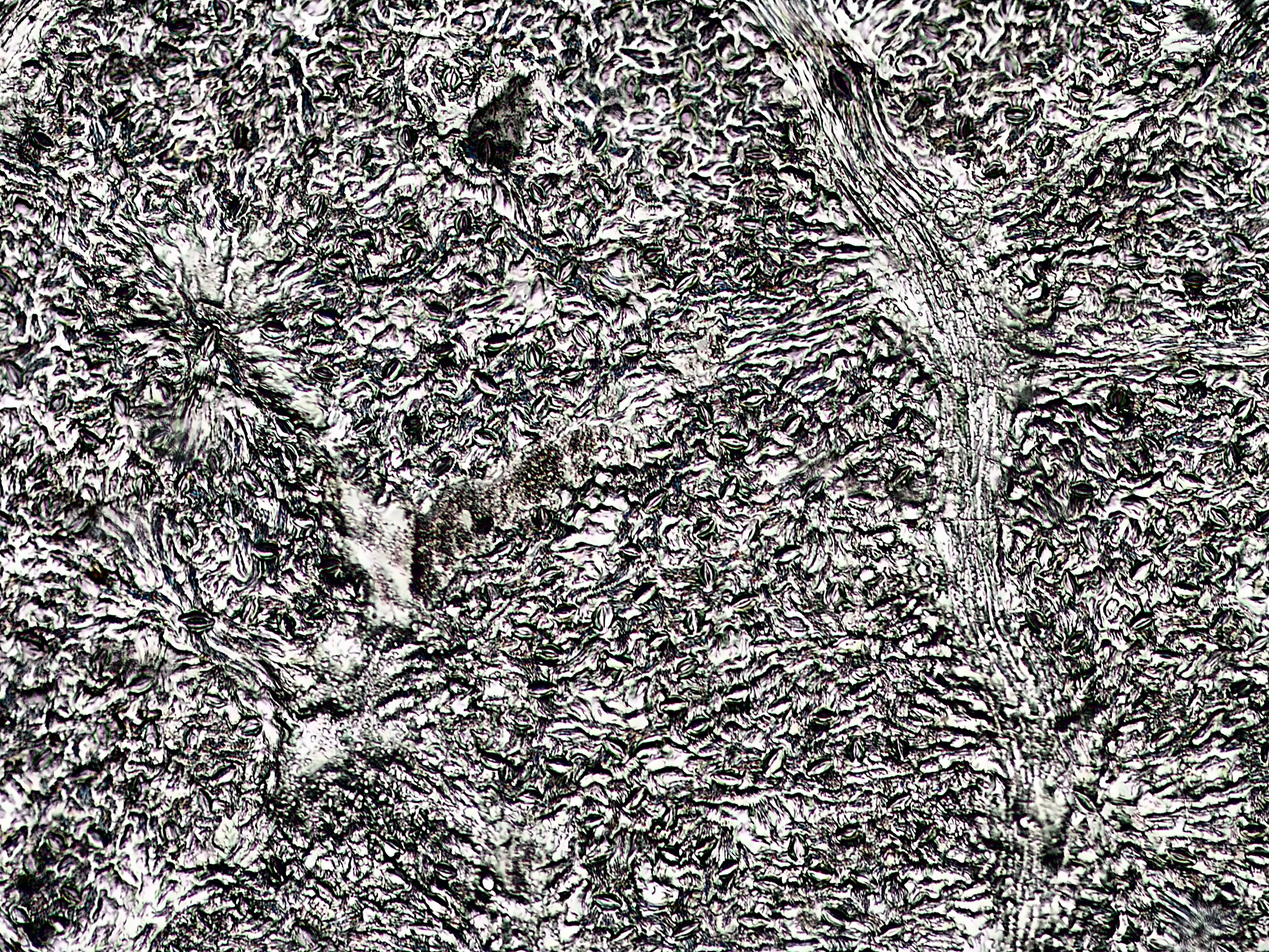stomata: (798, 528, 826, 573), (418, 889, 456, 919), (827, 66, 856, 101), (716, 623, 742, 662), (1069, 787, 1102, 815), (582, 547, 607, 582), (68, 264, 98, 292), (274, 443, 301, 474), (379, 865, 411, 891), (24, 126, 57, 151), (74, 688, 107, 713), (17, 631, 50, 656), (112, 860, 140, 889), (721, 44, 751, 71), (267, 411, 297, 438), (346, 226, 381, 249), (631, 739, 663, 764), (883, 875, 907, 908), (586, 175, 612, 205), (590, 601, 615, 632), (206, 762, 238, 786), (846, 868, 878, 892), (522, 680, 560, 700), (426, 453, 455, 479), (288, 924, 317, 950), (502, 710, 534, 733), (196, 327, 219, 359), (816, 905, 851, 926), (397, 241, 424, 268), (471, 371, 500, 396), (750, 803, 774, 833), (920, 912, 956, 932), (268, 24, 292, 54), (669, 918, 700, 941), (581, 843, 613, 865), (1103, 384, 1129, 411), (375, 833, 402, 859), (142, 268, 171, 292), (141, 427, 171, 450), (54, 87, 76, 118), (3, 358, 25, 389), (175, 611, 215, 628), (207, 41, 233, 67), (644, 773, 669, 800), (1228, 397, 1256, 421), (1220, 441, 1241, 473), (888, 464, 916, 488), (163, 17, 195, 38), (773, 543, 803, 565), (476, 135, 496, 168), (288, 510, 318, 532), (697, 559, 718, 590), (470, 426, 501, 447), (378, 357, 404, 382), (1024, 606, 1048, 633), (1224, 231, 1251, 255), (206, 0, 233, 24), (101, 243, 128, 267), (1164, 846, 1198, 865), (684, 714, 712, 737), (250, 538, 278, 561), (1232, 484, 1264, 504), (762, 747, 784, 776), (660, 10, 689, 32), (787, 832, 808, 862), (288, 221, 313, 246), (1209, 607, 1233, 633), (1130, 558, 1154, 584), (1139, 432, 1165, 456), (249, 758, 272, 785), (304, 194, 327, 221), (721, 684, 752, 704), (1142, 127, 1170, 149), (532, 644, 566, 662), (405, 920, 439, 938), (51, 305, 85, 323), (537, 566, 566, 587), (524, 341, 545, 370), (348, 415, 377, 436), (913, 823, 938, 847), (228, 121, 248, 151), (397, 123, 417, 153), (370, 485, 394, 510), (850, 677, 876, 700), (591, 892, 624, 910), (640, 490, 667, 512), (1040, 192, 1062, 219), (529, 393, 551, 420), (402, 93, 424, 120), (803, 757, 834, 776), (439, 66, 460, 94), (127, 772, 148, 800), (1060, 569, 1080, 598), (91, 649, 111, 678), (1170, 582, 1204, 599), (1206, 505, 1230, 529), (801, 478, 825, 502), (902, 100, 926, 124), (480, 334, 512, 352), (83, 825, 107, 849), (632, 580, 655, 605), (1198, 542, 1223, 565), (527, 504, 552, 527), (689, 517, 714, 540), (312, 881, 337, 904), (42, 829, 67, 852), (47, 696, 72, 719), (235, 715, 261, 737), (603, 737, 629, 759), (1119, 495, 1145, 517), (1001, 51, 1023, 77), (1139, 14, 1165, 36), (136, 189, 158, 215), (316, 281, 346, 300), (28, 608, 58, 627), (682, 607, 703, 634), (625, 783, 646, 810), (507, 405, 528, 432), (258, 320, 286, 340), (810, 707, 838, 727), (765, 695, 793, 715), (542, 756, 573, 774), (874, 922, 905, 940), (718, 434, 749, 452), (944, 52, 968, 75), (571, 324, 594, 348), (593, 297, 616, 321), (227, 195, 250, 219), (65, 511, 89, 534), (891, 406, 913, 431), (1080, 211, 1102, 236), (58, 884, 83, 906), (657, 845, 683, 866), (1243, 847, 1269, 868), (1077, 527, 1098, 553), (824, 581, 845, 607), (232, 798, 253, 824), (32, 495, 53, 521), (1237, 822, 1269, 839), (731, 219, 765, 235), (845, 491, 875, 509), (654, 147, 684, 165), (720, 82, 750, 100), (320, 252, 350, 270), (107, 392, 127, 419), (114, 211, 141, 231), (232, 550, 251, 578), (709, 770, 742, 786), (693, 835, 717, 857), (1245, 634, 1269, 656), (1149, 650, 1182, 666), (481, 583, 503, 607), (21, 853, 43, 877), (642, 442, 673, 459), (1151, 730, 1176, 751), (718, 475, 739, 500), (556, 258, 577, 283), (677, 107, 698, 132), (47, 916, 72, 937), (152, 380, 173, 405), (730, 594, 759, 612), (658, 696, 687, 714), (195, 158, 213, 187), (267, 853, 285, 882), (132, 475, 150, 504), (918, 670, 944, 690), (740, 518, 760, 544), (393, 207, 419, 227), (116, 823, 136, 849), (680, 224, 707, 243), (896, 52, 928, 68), (604, 654, 634, 671), (1020, 4, 1050, 21), (734, 258, 757, 280), (484, 223, 506, 246), (675, 657, 699, 678), (1130, 611, 1154, 632), (492, 537, 516, 558), (7, 905, 31, 926), (167, 195, 188, 219), (1188, 684, 1204, 715), (670, 430, 686, 461), (695, 402, 714, 428), (238, 598, 257, 624), (108, 154, 127, 180), (1174, 367, 1203, 384), (1205, 305, 1234, 322), (619, 340, 648, 357), (557, 366, 586, 383), (421, 301, 450, 318), (787, 119, 805, 146), (460, 273, 487, 291), (27, 313, 45, 340), (1064, 632, 1086, 654), (849, 389, 872, 410), (47, 391, 68, 414), (548, 602, 578, 618), (1125, 683, 1145, 707), (1131, 172, 1163, 187), (774, 267, 798, 287), (672, 273, 696, 293), (300, 138, 320, 162), (307, 364, 337, 380), (124, 676, 154, 692), (804, 867, 832, 884), (1177, 473, 1205, 490), (684, 52, 701, 80), (142, 722, 159, 750), (76, 192, 104, 209), (378, 41, 397, 66), (1251, 179, 1269, 205), (452, 209, 470, 235), (195, 788, 213, 814), (158, 349, 184, 367), (76, 429, 102, 447), (1151, 398, 1180, 414), (1026, 246, 1055, 262), (77, 483, 99, 504), (274, 614, 294, 637), (1059, 438, 1079, 461), (782, 414, 802, 437), (919, 20, 942, 40), (739, 390, 766, 407), (179, 516, 196, 543), (1084, 165, 1103, 189), (954, 116, 973, 140), (107, 102, 131, 121), (638, 246, 662, 265), (622, 199, 641, 223), (432, 861, 456, 880), (56, 855, 80, 874), (890, 736, 908, 761), (909, 705, 934, 723), (617, 540, 642, 558), (753, 877, 781, 893), (834, 824, 862, 840), (1151, 207, 1179, 223), (847, 736, 864, 762), (478, 752, 504, 769), (1119, 251, 1145, 268), (162, 823, 179, 849), (202, 692, 231, 707), (745, 149, 774, 164), (303, 602, 327, 620), (659, 803, 675, 830), (755, 186, 782, 202), (109, 223, 136, 239), (511, 623, 536, 640), (886, 794, 911, 811), (1097, 638, 1114, 663), (1036, 132, 1053, 157), (181, 725, 198, 750), (515, 789, 543, 804), (527, 182, 548, 202), (557, 64, 579, 83), (362, 82, 384, 101), (1112, 661, 1128, 687), (1003, 108, 1029, 124), (346, 857, 362, 883), (312, 310, 335, 328), (985, 8, 1003, 31), (351, 142, 369, 165), (724, 121, 747, 139), (912, 88, 939, 103), (1180, 271, 1208, 285), (68, 766, 96, 780), (646, 634, 669, 651), (1070, 482, 1096, 497), (1020, 285, 1044, 301), (1068, 87, 1092, 103), (427, 412, 451, 428), (312, 95, 336, 111), (221, 494, 237, 518), (1211, 157, 1230, 177), (25, 480, 52, 494), (731, 142, 746, 167), (716, 859, 738, 876), (206, 450, 223, 472), (60, 53, 91, 65), (981, 161, 1004, 177), (1135, 211, 1151, 234), (32, 425, 48, 448), (1054, 295, 1080, 309), (1071, 25, 1084, 53), (1099, 48, 1119, 66), (27, 456, 45, 476), (401, 415, 422, 432), (581, 814, 606, 828), (175, 476, 189, 501), (66, 612, 91, 626), (435, 382, 458, 397), (1009, 480, 1027, 499), (1030, 487, 1047, 507), (1246, 95, 1266, 112), (592, 131, 608, 152), (336, 39, 363, 51), (43, 205, 55, 232), (625, 171, 648, 185), (1103, 9, 1121, 25), (1071, 8, 1090, 23), (65, 146, 86, 159), (848, 666, 866, 681), (25, 248, 39, 267), (532, 130, 556, 141), (1228, 156, 1247, 168), (238, 482, 250, 501), (350, 466, 366, 480), (87, 133, 100, 149)
